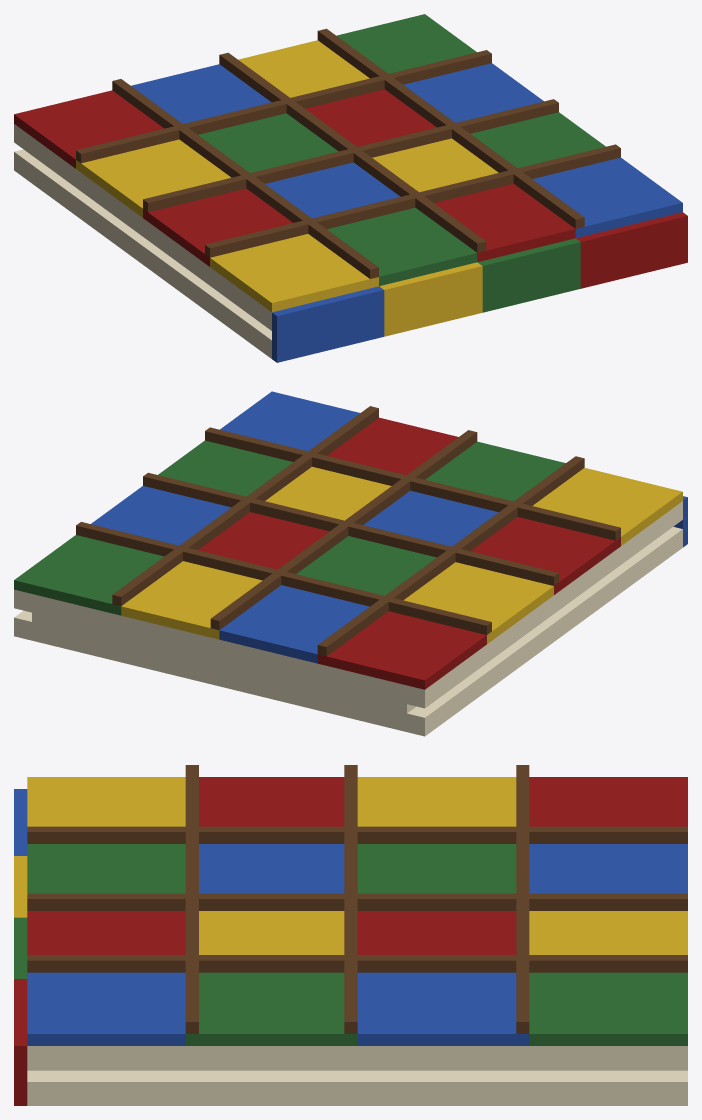
File: patchwork_scarf.glb
3 views of the same model, one above another, from view 1: azimuth 30°, elevation 25°; view 2: azimuth 150°, elevation 25°; view 3: azimuth 270°, elevation 25° (orthographic). The views are drawn at different scales.
Parts seen in each view (by area): view 1: patchwork_scarf:compound; view 2: patchwork_scarf:compound; view 3: patchwork_scarf:compound.
Part boxes in pixels (<box>): patchwork_scarf:compound: <box>14,14,687,362</box>; patchwork_scarf:compound: <box>14,391,687,736</box>; patchwork_scarf:compound: <box>14,765,687,1105</box>.
Size of the model in its own units: 0.184 by 0.028 by 0.204.
